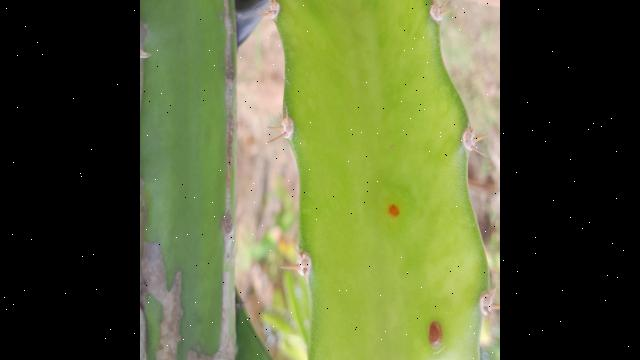stemcanker: (421, 315, 450, 352), (381, 198, 407, 224)
